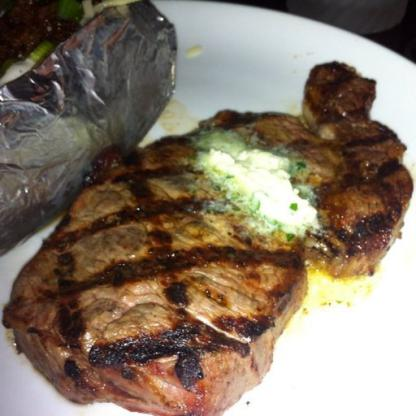beef: (21, 127, 312, 411), (219, 63, 409, 270)
